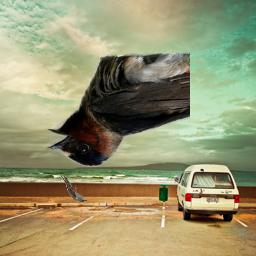Cuckoo: (61, 176, 87, 202)
Swallow: (45, 52, 190, 167)
